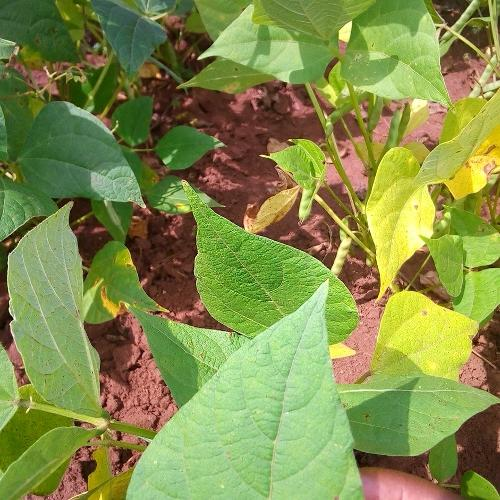mozaik: (236, 294, 352, 500)
sehat: (225, 68, 500, 419)
